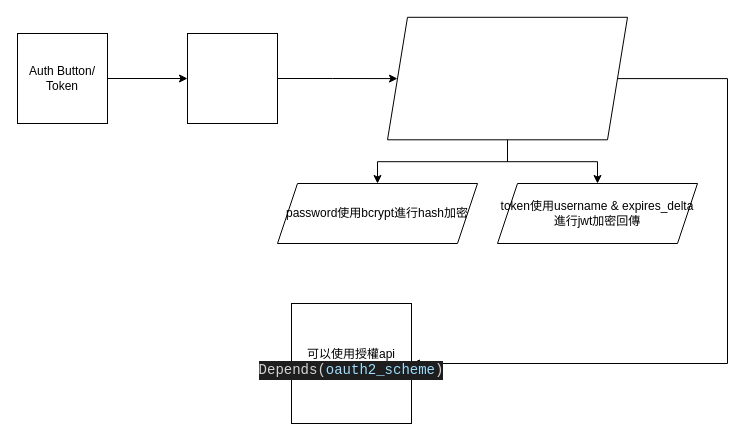
Some shapes in this 753 by 442 pixel diagram are drawn without their labels. Here are the shapes that lost their labels. From the top down, the centre of each, then its label:
the point at 232,78: /token
the point at 507,78: 使用username, password撈取user db , 若username, password都正確則通過回傳token
